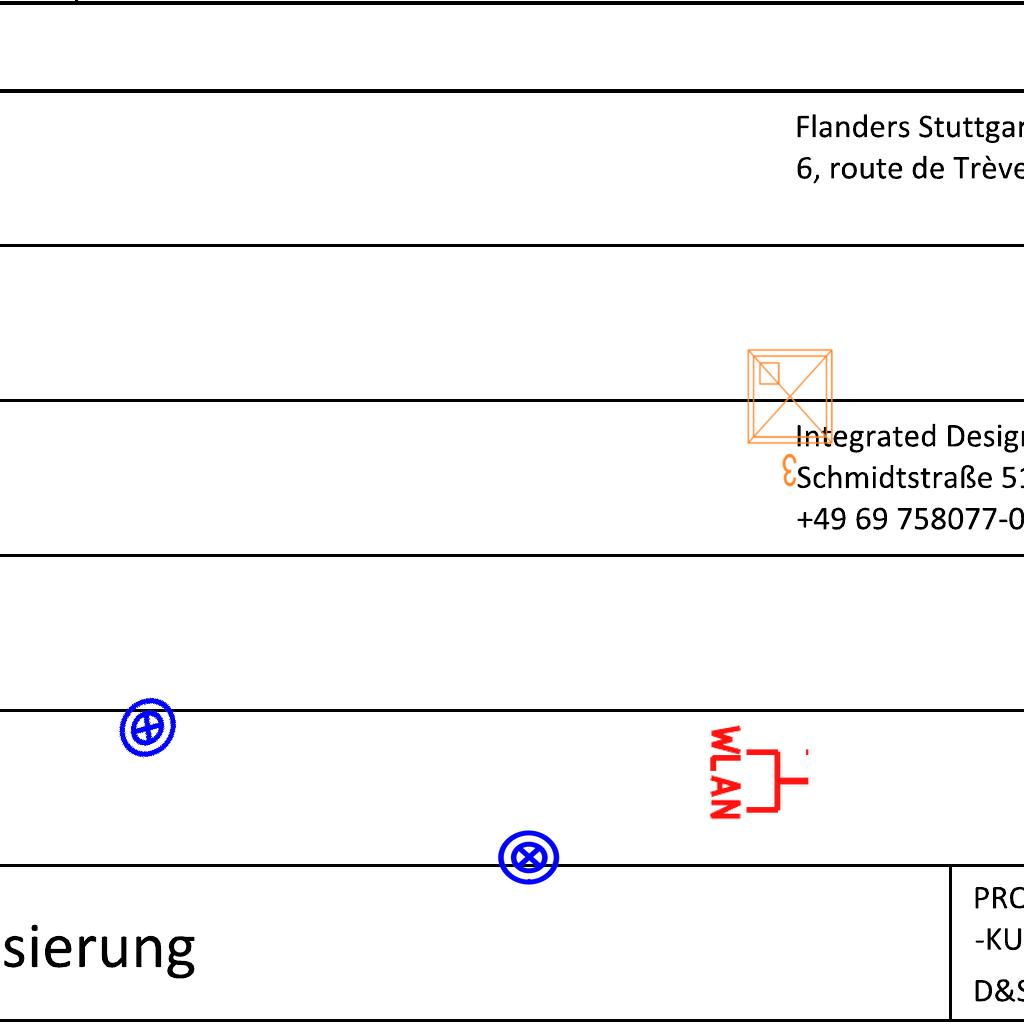Einbaudownlights_LED_Konferenzraeume: (740, 342, 844, 492)
Taster_beleuchtet: (102, 682, 194, 774), (496, 824, 562, 890)
WLAN: (708, 720, 813, 824)
